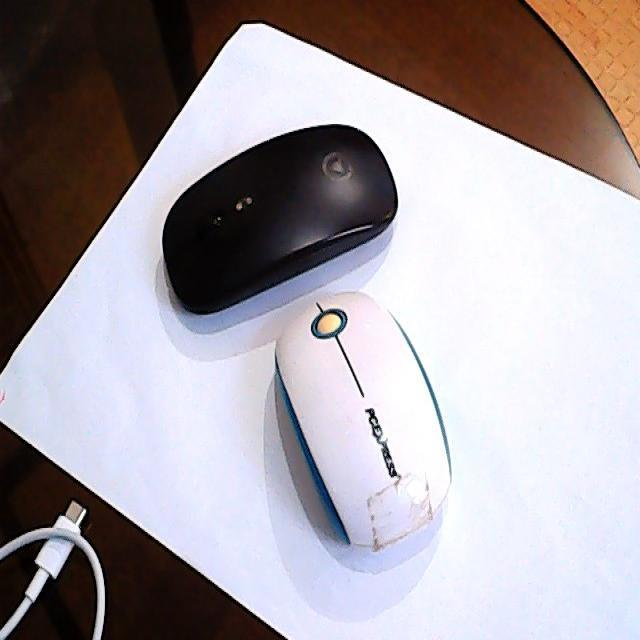mouse: (273, 286, 457, 550), (163, 120, 400, 314)
